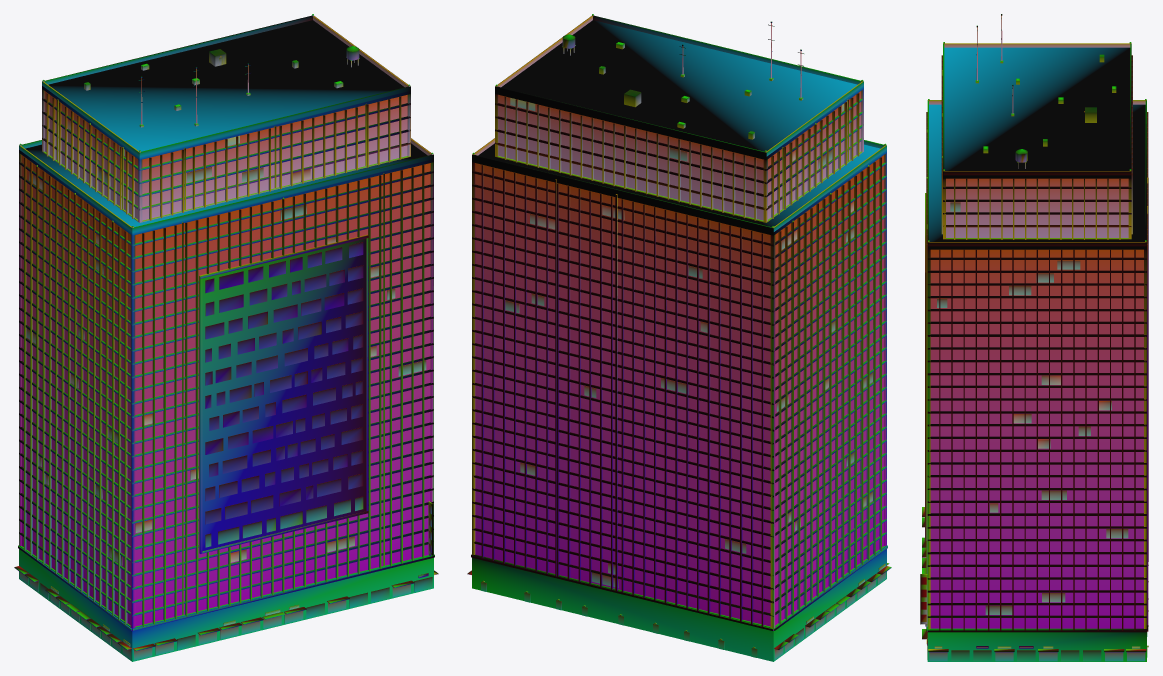
File: Tower_Monolith.fbx
3 views of the same model, side by side, from view 1: azimuth 30°, elevation 25°; view 2: azimuth 150°, elevation 25°; view 3: azimuth 270°, elevation 25° (orthographic). The views are drawn at different scales.
Parts seen in each view (by area): view 1: Tower_Monolith_LOD0; view 2: Tower_Monolith_LOD0; view 3: Tower_Monolith_LOD0.
Part boxes in pixels (bbox=[...]): Tower_Monolith_LOD0: bbox=[14, 14, 438, 661]; Tower_Monolith_LOD0: bbox=[467, 14, 891, 661]; Tower_Monolith_LOD0: bbox=[920, 14, 1148, 661].
Size of what is drawn, in the model's own units: 88.8 by 151 by 58.31.
